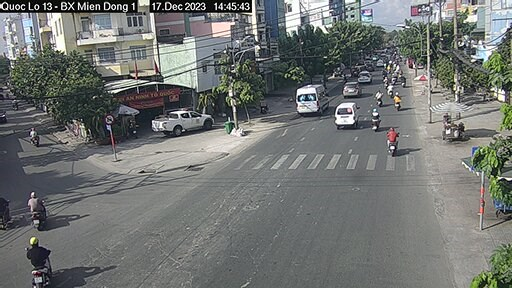car: (298, 80, 325, 122), (331, 106, 361, 127), (356, 67, 377, 82), (340, 77, 361, 91)
motorbike: (21, 240, 59, 280), (19, 191, 48, 231), (388, 124, 402, 154), (370, 108, 381, 128)
